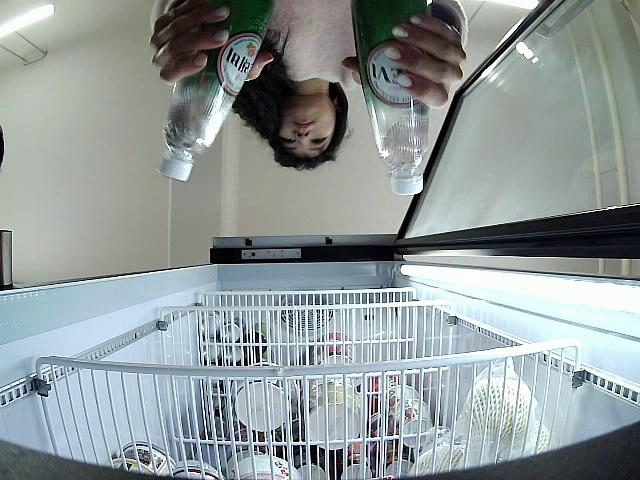00_hand: (341, 10, 468, 107), (148, 0, 275, 87)
18_trevi: (159, 0, 275, 185), (350, 0, 433, 195)
